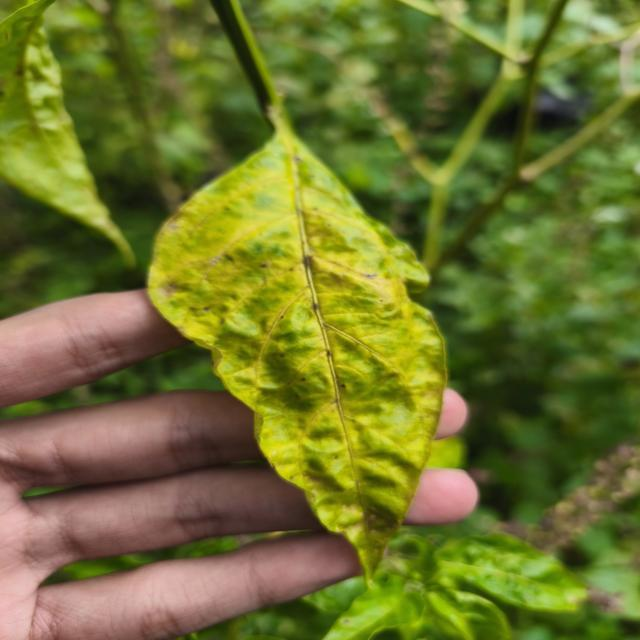Virus Kuning: (145, 127, 449, 587), (0, 0, 137, 270)
